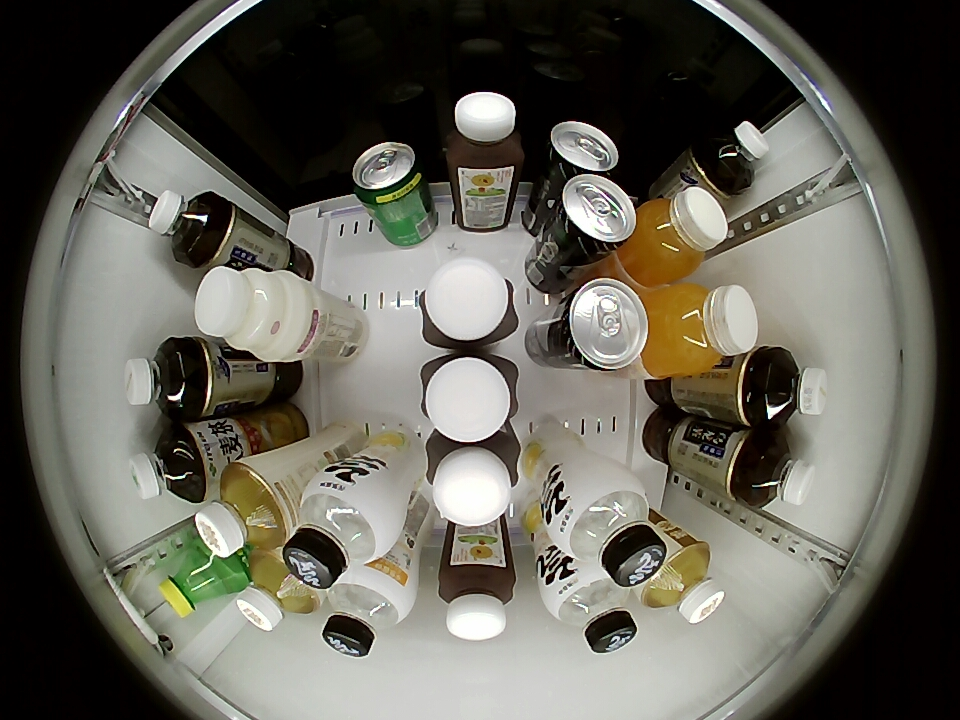damaicha: (128, 426, 206, 504)
qingdaowangzi-1: (552, 278, 648, 372), (549, 174, 637, 260), (541, 121, 620, 183)
rancha-2: (195, 462, 295, 558), (640, 534, 724, 625), (236, 550, 320, 632)
weic: (641, 281, 758, 377), (621, 187, 728, 285)
wulongcha: (124, 337, 199, 420), (740, 434, 816, 508), (758, 348, 829, 427), (148, 189, 222, 263), (701, 121, 769, 188)
xuebi-b: (159, 545, 237, 618)
xuebi2: (351, 142, 428, 208)
yingyangkuaixian: (195, 265, 310, 361)
youyanggudong: (418, 256, 520, 350), (419, 351, 519, 443), (425, 432, 520, 527), (443, 91, 524, 179), (437, 558, 517, 641)
yuanqishui: (547, 466, 669, 588), (282, 472, 405, 590), (322, 564, 415, 658), (541, 564, 637, 653)
